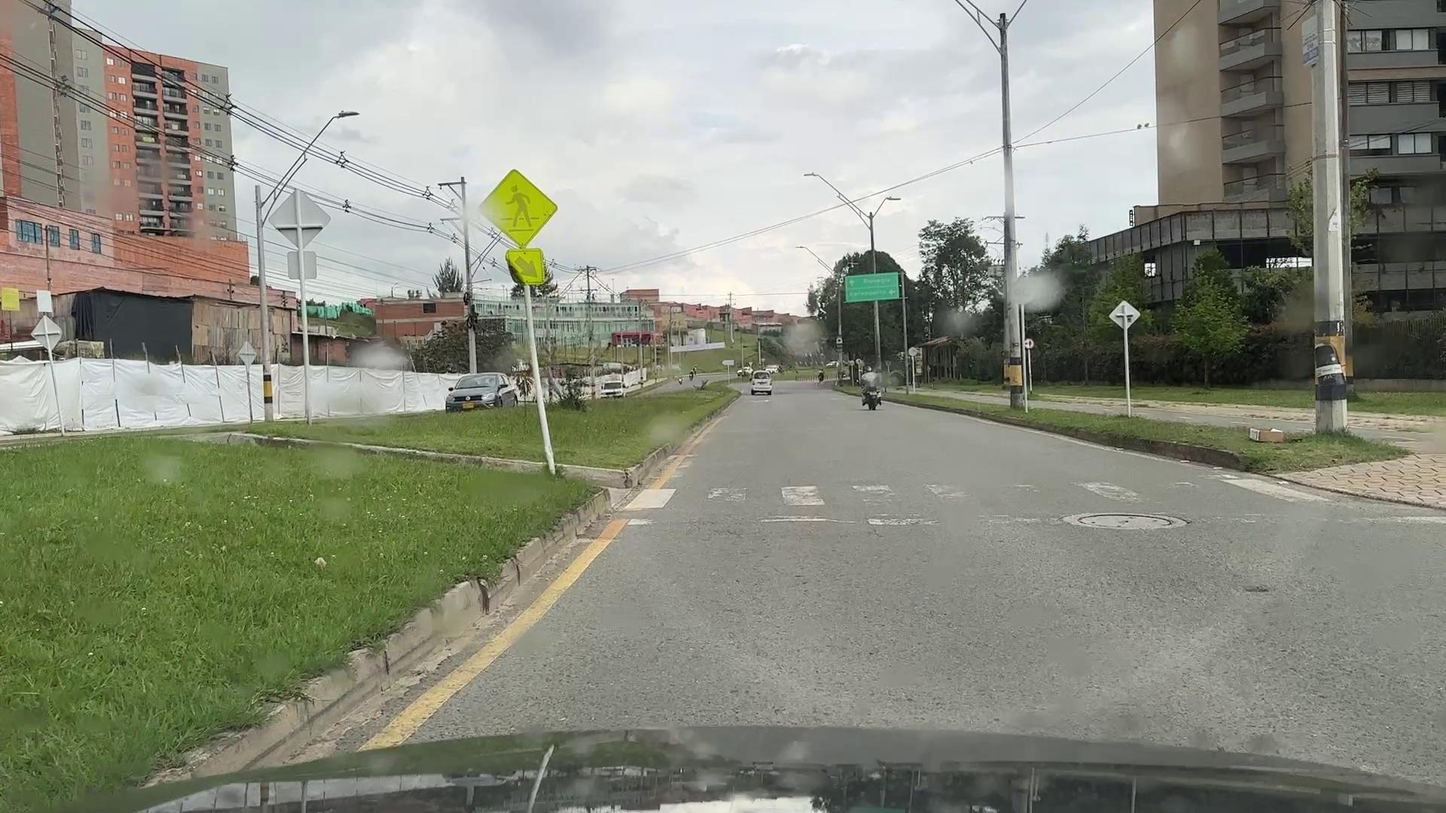bache: (1246, 589, 1268, 592)
registro: (1078, 514, 1171, 527)
